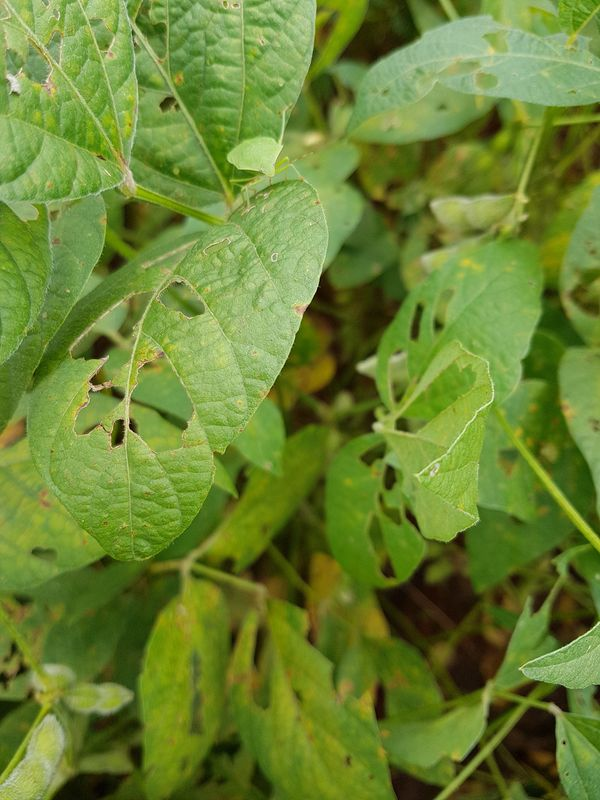Nezara_viridula_adulto: (211, 114, 314, 213)
